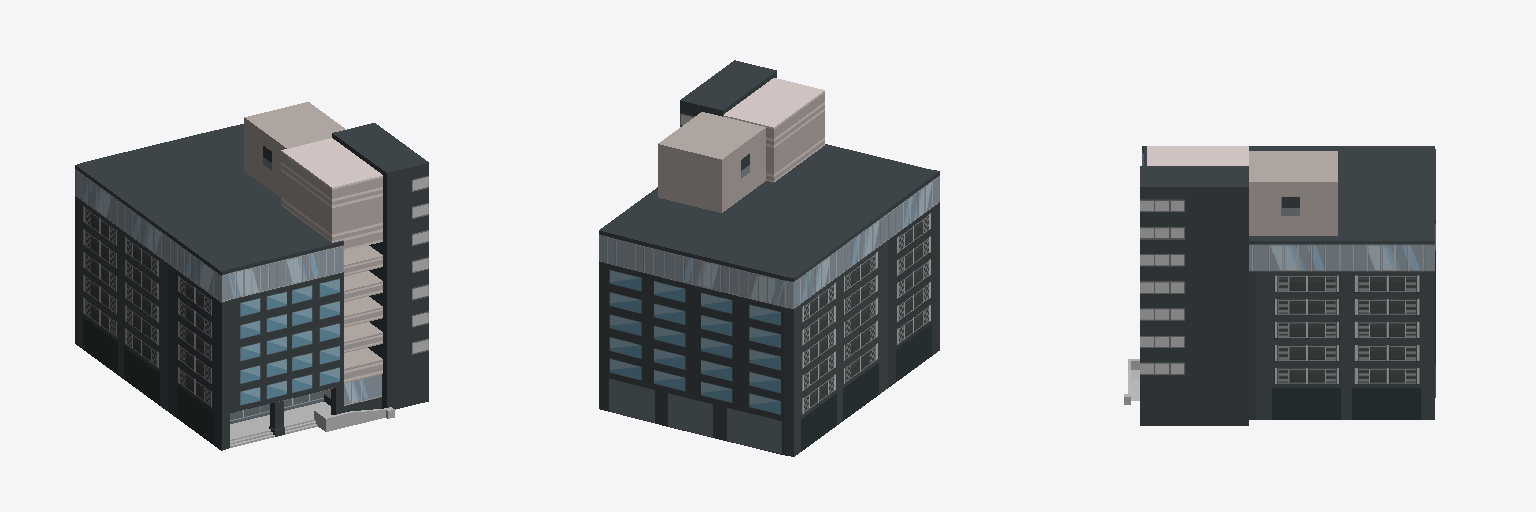
3 views of the same model, side by side, from view 1: azimuth 30°, elevation 25°; view 2: azimuth 150°, elevation 25°; view 3: azimuth 270°, elevation 25° (orthographic).
Parts seen in each view (by area): view 1: BldgB2; view 2: BldgB2; view 3: BldgB2.
Boxes of the visible parts, x1,y1,x2,y2 form: BldgB2: [75, 102, 428, 450]; BldgB2: [599, 60, 939, 456]; BldgB2: [1124, 146, 1435, 425].
Size of the model in its own units: 254 by 280 by 332.
Materials: 1 (1 with a texture image).